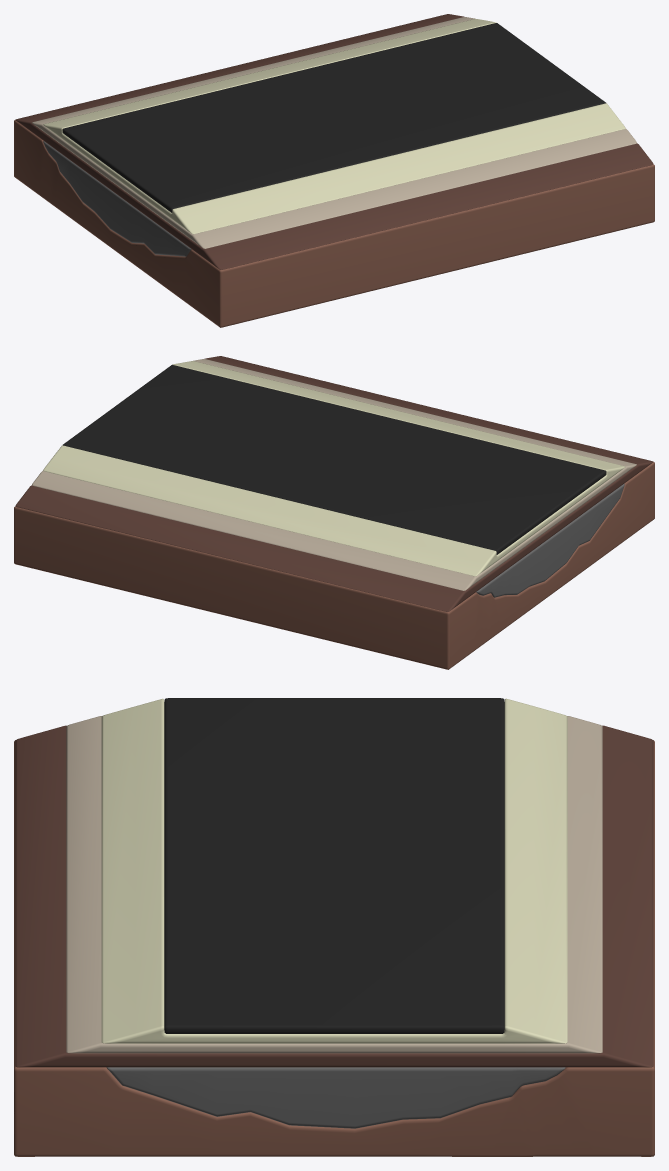
The model's file is old.glb.
3 renders of one model, top to bottom at view 1: azimuth 30°, elevation 25°; view 2: azimuth 150°, elevation 25°; view 3: azimuth 270°, elevation 25°, orthographic. The views are drawn at different scales.
Parts seen in each view (by area): view 1: Cube.007, Cube.006, Cube.008, Cube.009, Cube.011, Cube.010; view 2: Cube.007, Cube.006, Cube.008, Cube.009, Cube.011, Cube.010; view 3: Cube.007, Cube.008, Cube.009, Cube.006, Cube.011, Cube.010.
Boxes of the visible parts, box(x1,y1,x2,y2) form: Cube.007: box(62, 23, 605, 212); Cube.006: box(14, 120, 654, 327); Cube.008: box(43, 19, 625, 234); Cube.009: box(15, 14, 653, 269); Cube.011: box(32, 17, 636, 248); Cube.010: box(43, 141, 191, 256); Cube.007: box(63, 365, 606, 554); Cube.006: box(14, 462, 654, 669); Cube.008: box(43, 361, 625, 576); Cube.009: box(15, 356, 653, 611); Cube.011: box(32, 359, 636, 590); Cube.010: box(476, 483, 624, 597); Cube.007: box(164, 698, 504, 1033); Cube.008: box(101, 698, 567, 1043); Cube.009: box(15, 725, 653, 1067); Cube.006: box(14, 740, 654, 1156); Cube.011: box(66, 716, 602, 1053); Cube.010: box(106, 1067, 565, 1128).
Size of the model in its own units: 5.31 by 0.9855 by 4.37.
